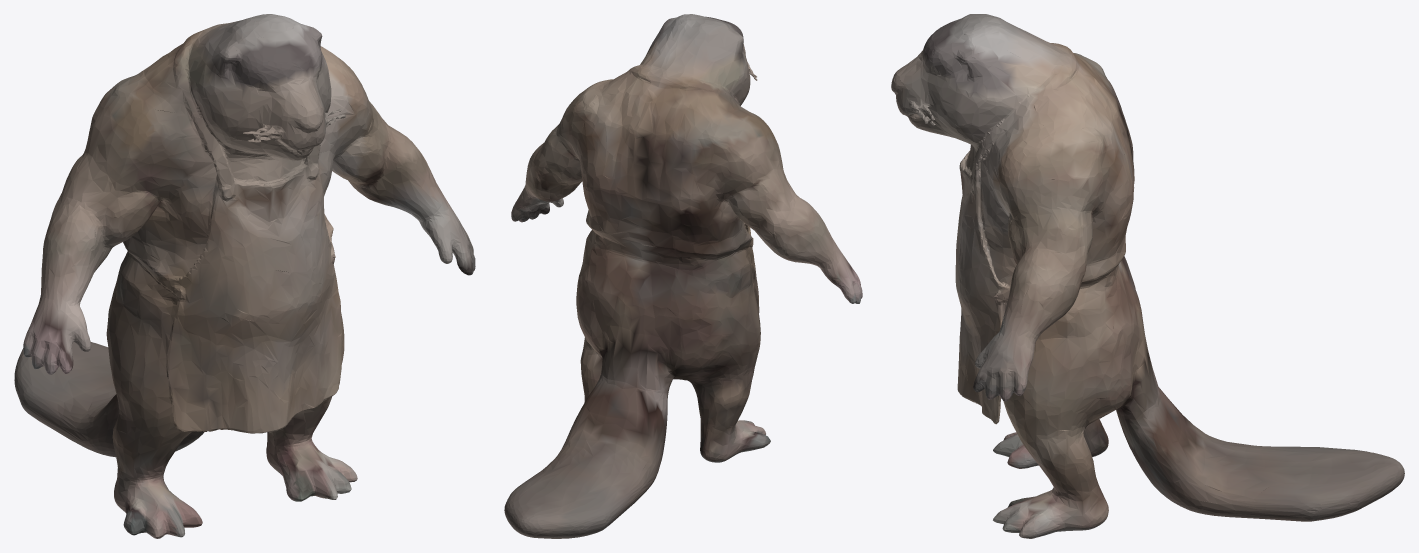
The model's file is castor-color.glb.
3 views of the same model, side by side, from view 1: azimuth 30°, elevation 25°; view 2: azimuth 150°, elevation 25°; view 3: azimuth 270°, elevation 25° (orthographic). The views are drawn at different scales.
Visible parts, largest first — view 1: world; view 2: world; view 3: world.
Part boxes in pixels (x1=…): world: x1=14, y1=14, x2=475, y2=538; world: x1=504, y1=14, x2=862, y2=538; world: x1=891, y1=14, x2=1404, y2=538.
Bounding box in the file's own units: 1.67 × 1.89 × 1.82.
